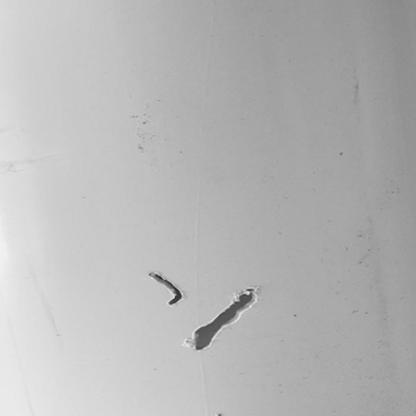fengxi: (182, 289, 259, 352), (145, 271, 185, 305)
